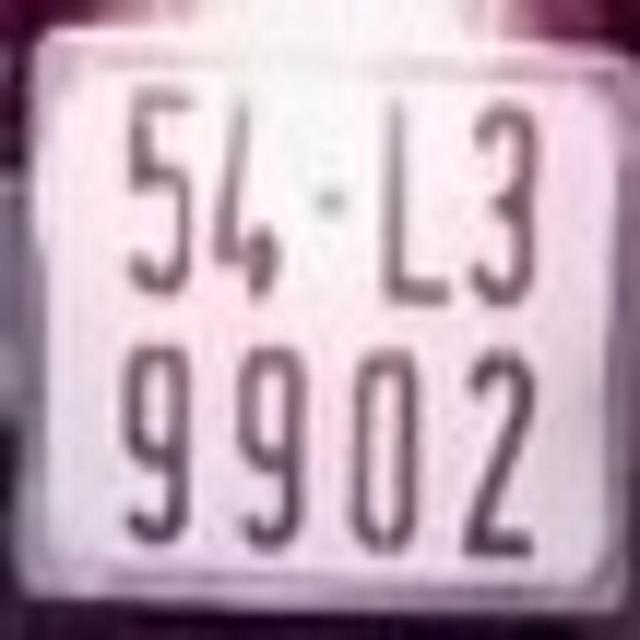0: (354, 342, 416, 556)
2: (466, 352, 539, 558)
3: (472, 97, 538, 306)
4: (215, 91, 283, 296)
5: (126, 78, 196, 292)
9: (122, 342, 194, 548), (235, 344, 304, 542)
L: (376, 91, 453, 303)
